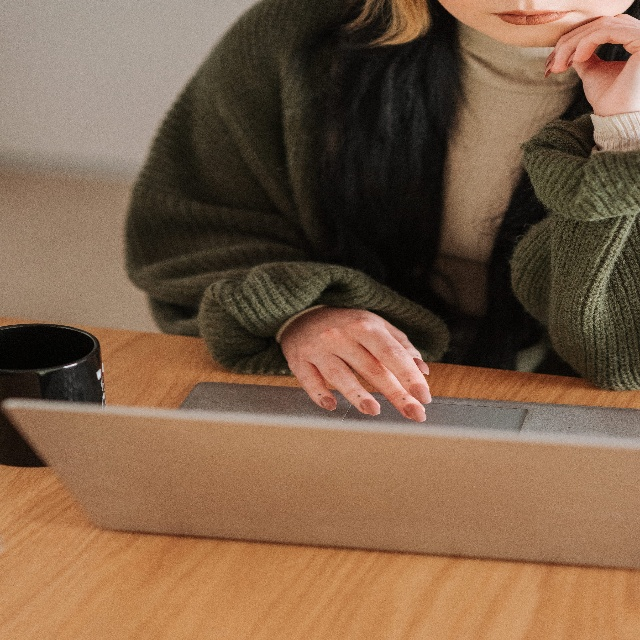Sin_guantes: (281, 313, 433, 422), (545, 13, 640, 115)
